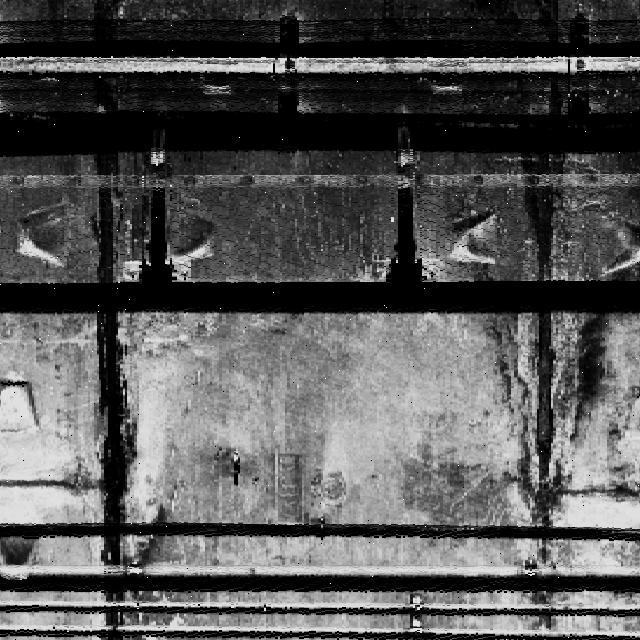leakage: (444, 148, 630, 558), (79, 150, 149, 638), (88, 1, 125, 115)
